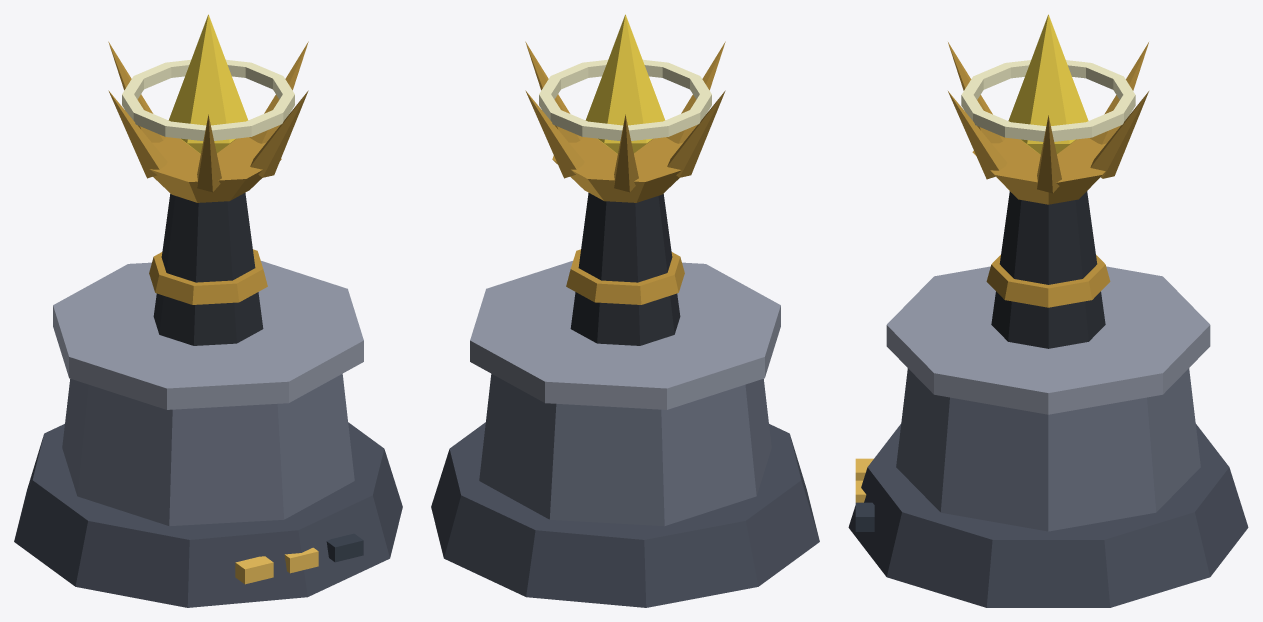
File: storm-spire-1.glb
3 views of the same model, side by side, from view 1: azimuth 30°, elevation 25°; view 2: azimuth 150°, elevation 25°; view 3: azimuth 270°, elevation 25° (orthographic).
Parts seen in each view (by area): view 1: storm-spire-1; view 2: storm-spire-1; view 3: storm-spire-1.
Part boxes in pixels (x1,y1,x2,y2): storm-spire-1: (14,14,402,607); storm-spire-1: (431,14,819,607); storm-spire-1: (848,14,1248,607).
Size of the model in its own units: 0.7989 by 1.19 by 0.84.
1 material, 1 textured.
